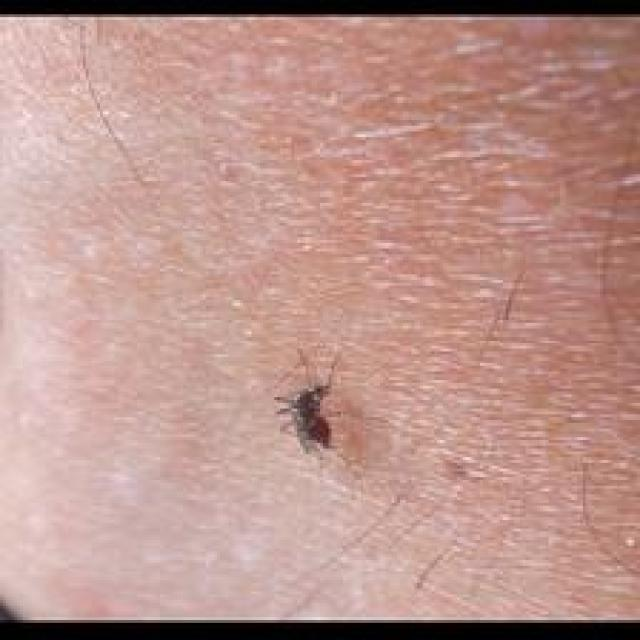Aedes albopictus: (271, 343, 343, 457)
